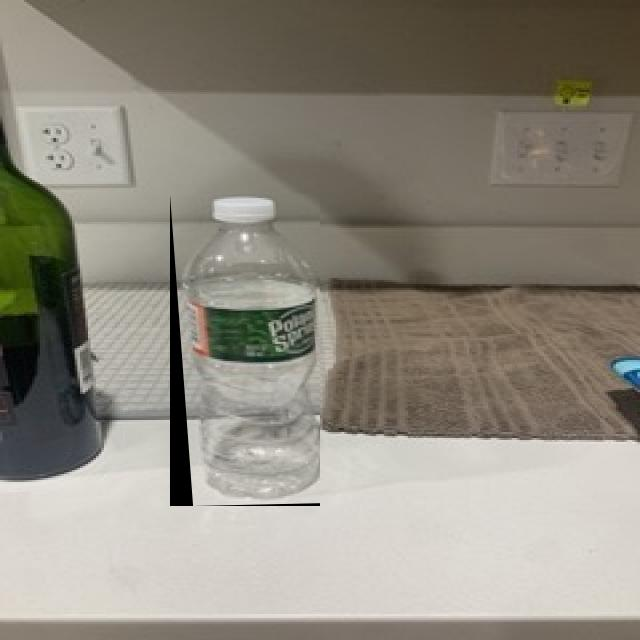water_bottle: (170, 194, 320, 506)
